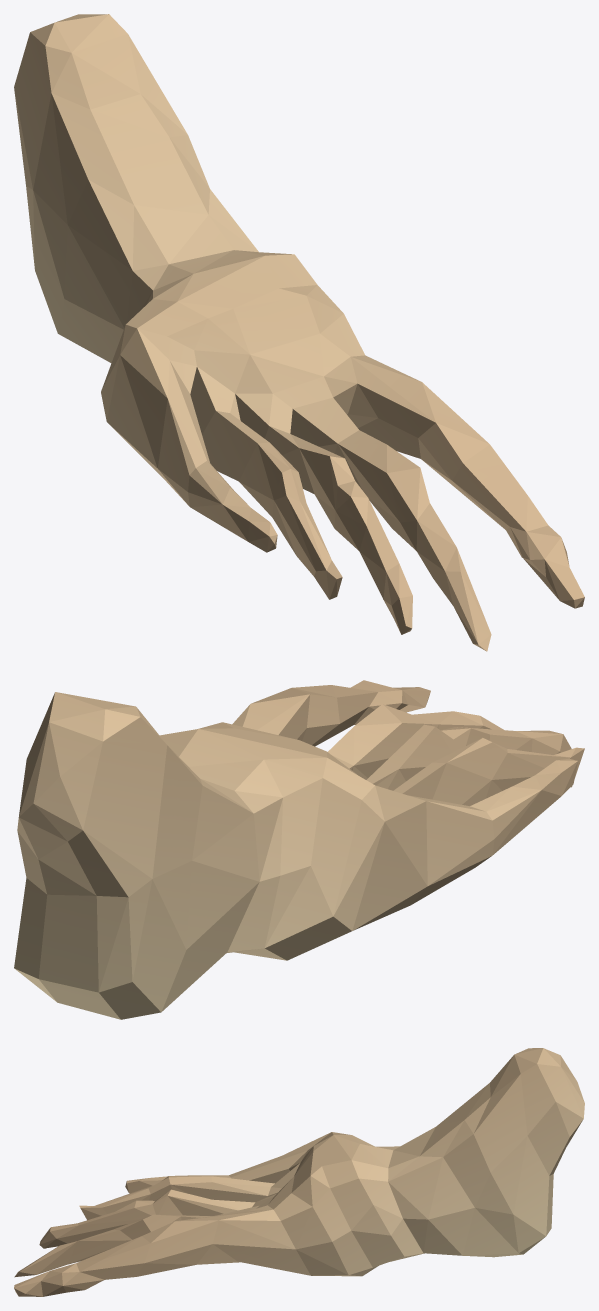
Rendered from feetbonesleft.fbx.
The picture shows the model from 3 angles, top to bottom: view 1: azimuth 30°, elevation 25°; view 2: azimuth 150°, elevation 25°; view 3: azimuth 270°, elevation 25°; orthographic projection. The views are drawn at different scales.
Visible parts, largest first — view 1: FeetBonesLeft; view 2: FeetBonesLeft; view 3: FeetBonesLeft.
Part boxes in pixels (<box>): FeetBonesLeft: <box>14,14,584,651</box>; FeetBonesLeft: <box>14,680,584,1019</box>; FeetBonesLeft: <box>14,1048,584,1296</box>.
Size of the model in its own units: 8.8 by 11.15 by 26.15.
